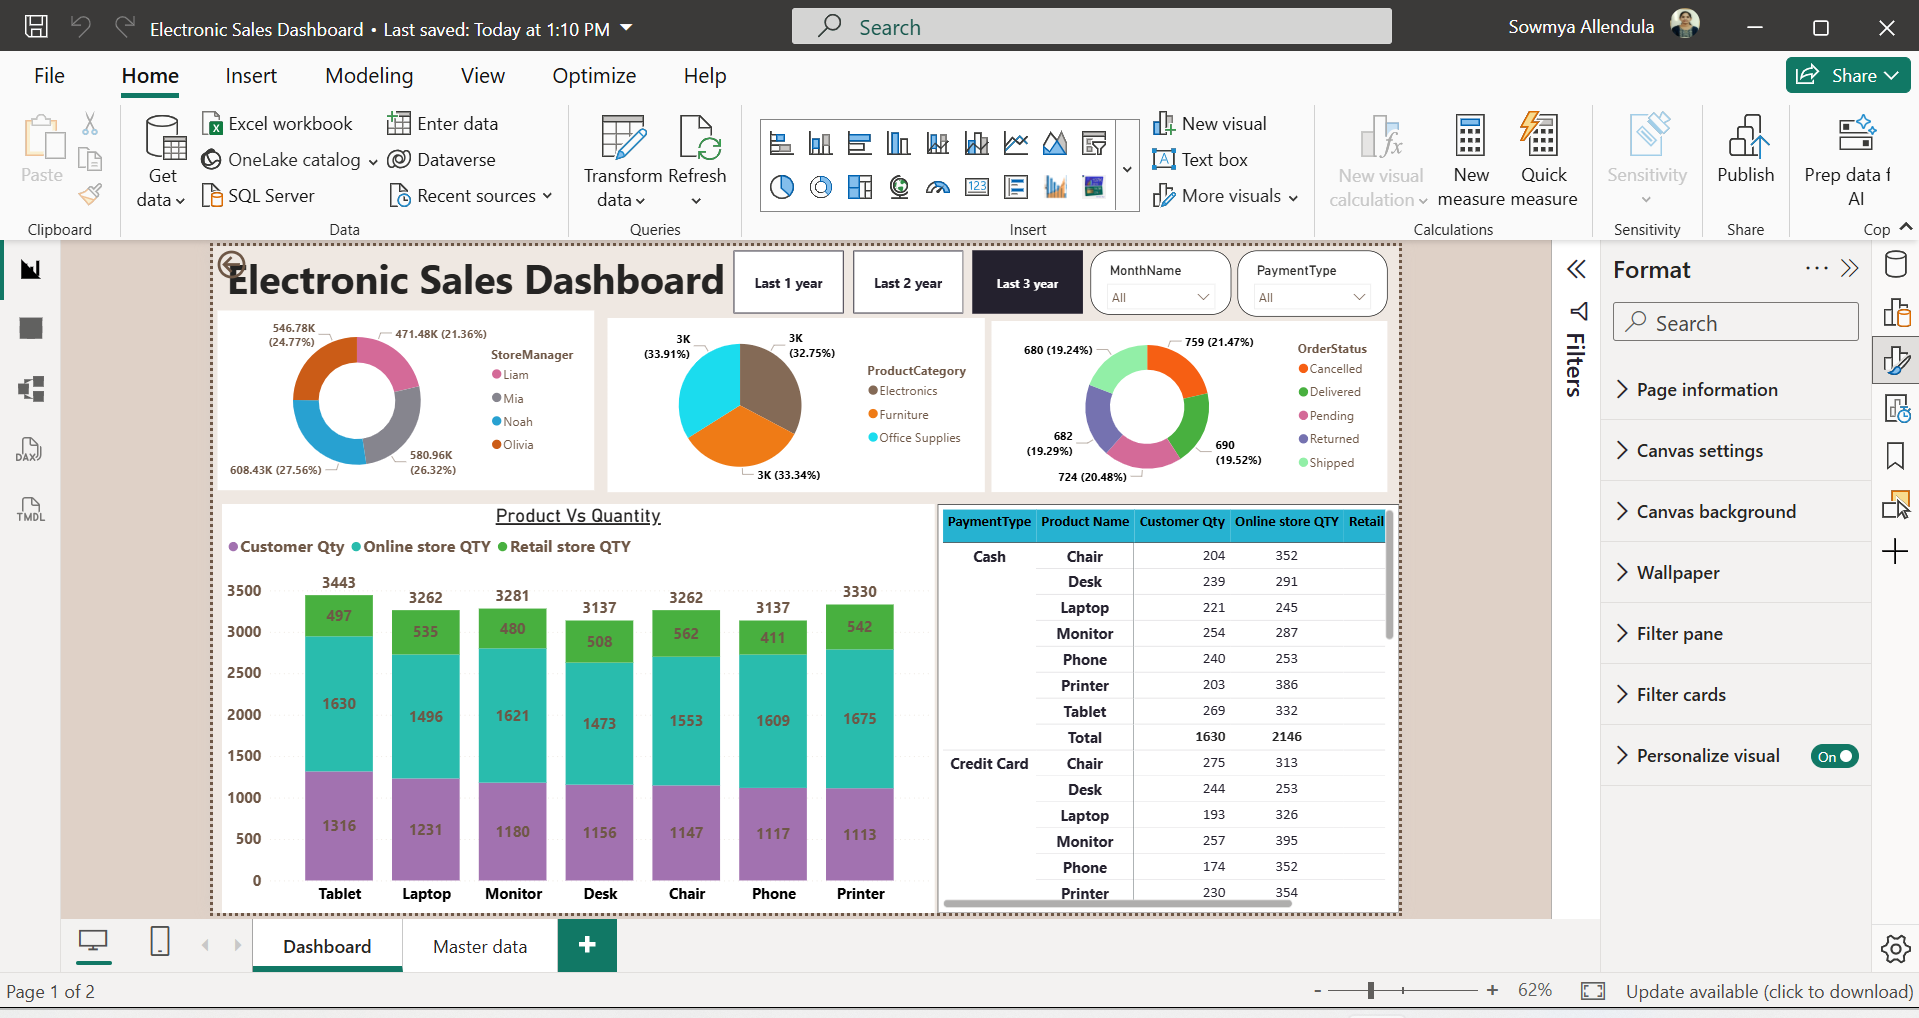

The page's visual inventory and layout, read from the dashboard file:
{"tool":"powerbi","page":{"name":"Dashboard","canvas":[1280,720],"ordinal":0},"visuals":[{"type":"textbox","box":[9.7,0,566.7,68],"z":0},{"type":"slicer","fields":{"Values":["Calendar.MonthName"]},"box":[946.7,4.3,152.2,69.6],"z":1000},{"type":"slicer","fields":{"Values":["Online store orders.PaymentType"]},"box":[1105.4,4.9,161.9,71.2],"z":2000},{"type":"lineStackedColumnComboChart","title":"Product Vs Quantity","fields":{"Category":["Fact Table.Product Name"],"Y":["Fact Table.Customer Qty","Fact Table.Online store QTY","Fact Table.Retail store QTY"]},"box":[9.7,278.5,769.1,442],"z":3000},{"type":"bookmarkNavigator","box":[561.9,4.9,378.9,68.5],"z":5000},{"type":"pieChart","fields":{"Category":["Customer purchase history.ProductCategory"],"Y":["Sum(Customer purchase history.Quantity)"]},"box":[426.4,77.7,407.5,187.8],"z":6000},{"type":"donutChart","fields":{"Category":["Online store orders.StoreManager"],"Y":["Sum(Online store orders.TotalPrice)"]},"box":[4.9,69.6,406.4,194.3],"z":7000},{"type":"donutChart","fields":{"Category":["Retail store Transations.OrderStatus"],"Y":["Sum(Retail store Transations.Quantity)"]},"box":[840.4,81,427.5,184.6],"z":8000},{"type":"pivotTable","fields":{"Rows":["Online store orders.PaymentType","Fact Table.Product Name"],"Values":["Fact Table.Customer Qty","Fact Table.Online store QTY","Fact Table.Retail store QTY"]},"box":[782.1,278.5,498.7,442],"z":9000},{"type":"actionButton","box":[0,0,100,40],"z":10000}]}

Visuals, with their boxes on the page's 1280x720 design canvas (x1, y1, x2, y2). These are canvas units, not pixel positions in the 1919x1018 screenshot, which may show the page scaled, cropped or inside an application window:
textbox: x1=10 y1=0 x2=576 y2=68
slicer - Calendar.MonthName: x1=947 y1=4 x2=1099 y2=74
slicer - Online store orders.PaymentType: x1=1105 y1=5 x2=1267 y2=76
"Product Vs Quantity" lineStackedColumnComboChart: x1=10 y1=278 x2=779 y2=720
bookmarkNavigator: x1=562 y1=5 x2=941 y2=73
pieChart - Customer purchase history.ProductCategory x Sum(Customer purchase history.Quantity): x1=426 y1=78 x2=834 y2=266
donutChart - Online store orders.StoreManager x Sum(Online store orders.TotalPrice): x1=5 y1=70 x2=411 y2=264
donutChart - Retail store Transations.OrderStatus x Sum(Retail store Transations.Quantity): x1=840 y1=81 x2=1268 y2=266
pivotTable - Online store orders.PaymentType x Fact Table.Product Name: x1=782 y1=278 x2=1281 y2=720
actionButton: x1=0 y1=0 x2=100 y2=40
